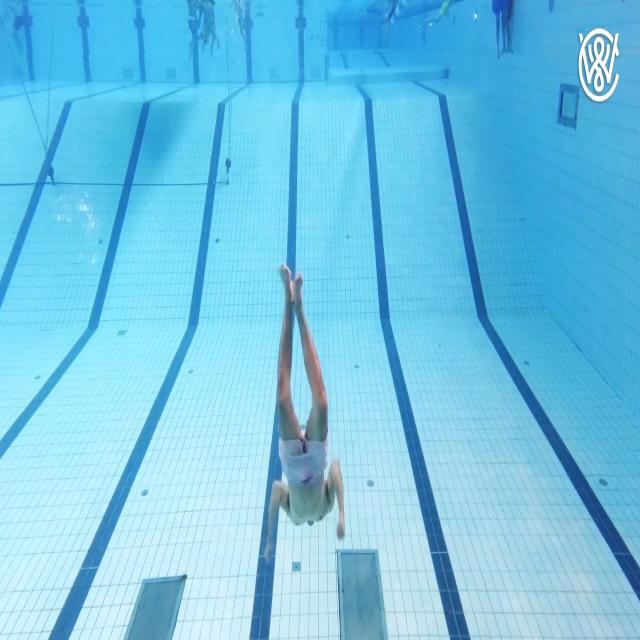Swimming: (264, 263, 348, 564)
